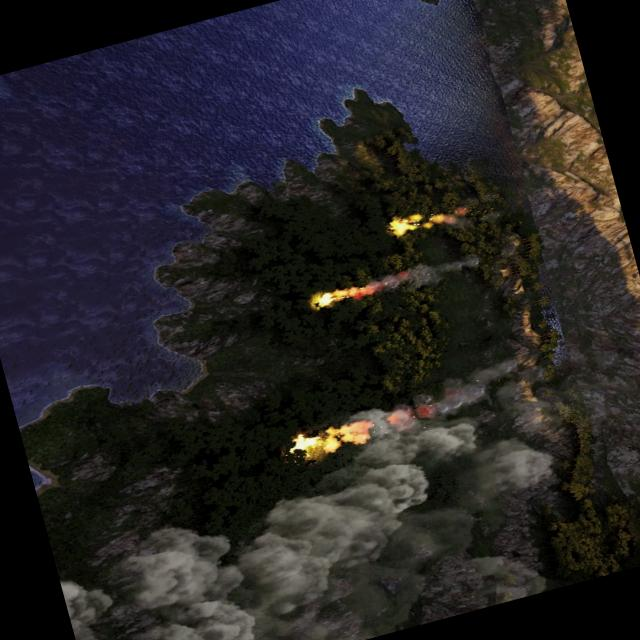fire: (285, 413, 374, 462), (310, 279, 372, 310), (387, 213, 419, 238)
smoke: (31, 349, 584, 640), (358, 248, 482, 300), (422, 204, 473, 234), (497, 240, 517, 256)
